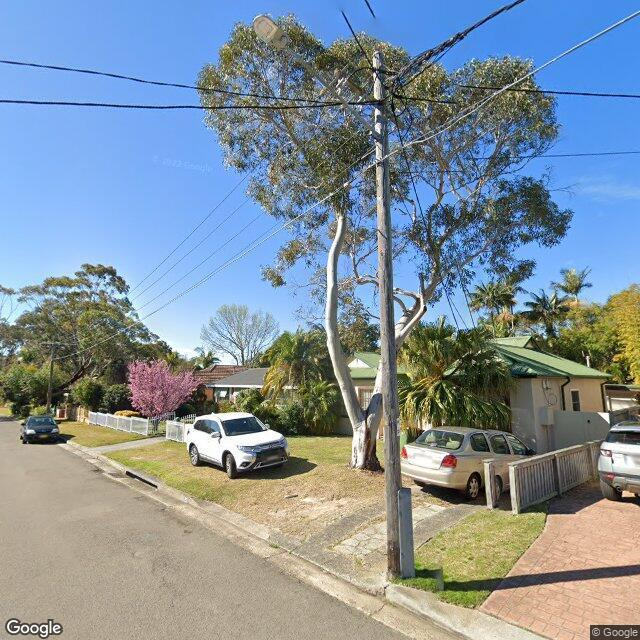crossarm: (333, 66, 407, 131), (40, 342, 76, 347)
streetlight: (252, 15, 380, 139)
timber-pole: (372, 51, 415, 578), (46, 336, 56, 414)
